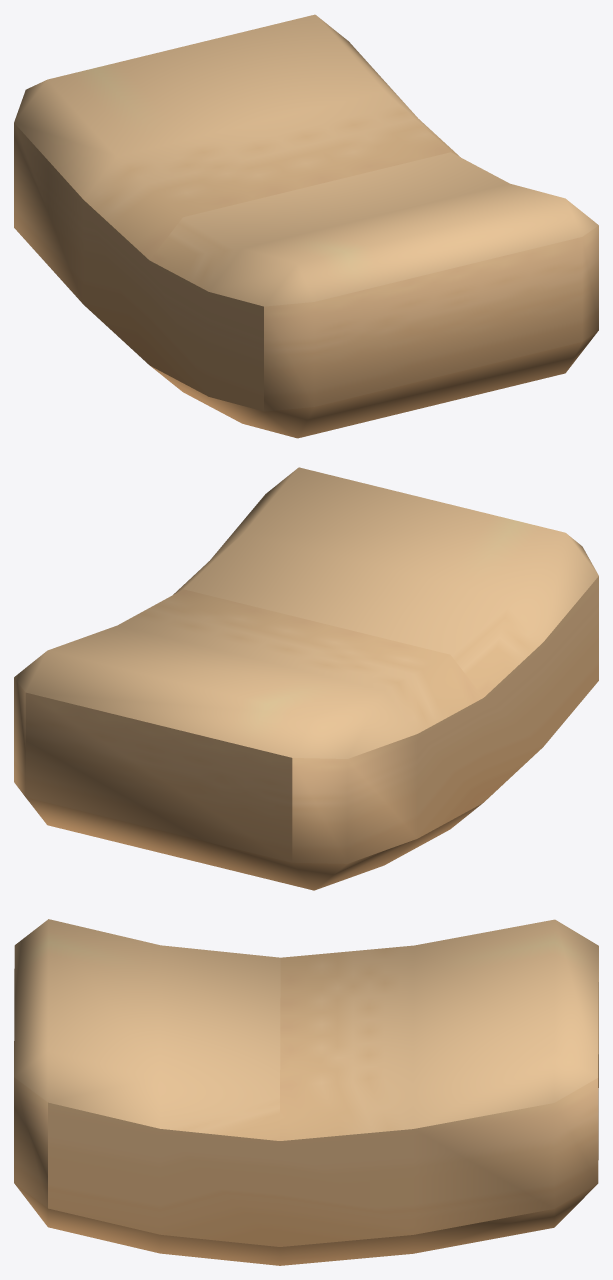
The model's file is sack.glb.
The picture shows the model from 3 angles, top to bottom: view 1: azimuth 30°, elevation 25°; view 2: azimuth 150°, elevation 25°; view 3: azimuth 270°, elevation 25°; orthographic projection.
Visible parts, largest first — view 1: sack; view 2: sack; view 3: sack.
Boxes of the visible parts, box(x1,y1,x2,y2) form: sack: box(14, 14, 598, 438); sack: box(14, 467, 598, 890); sack: box(14, 919, 598, 1265).
Size of the model in its own units: 0.1065 by 0.0647 by 0.1595.
1 material, 1 textured.
